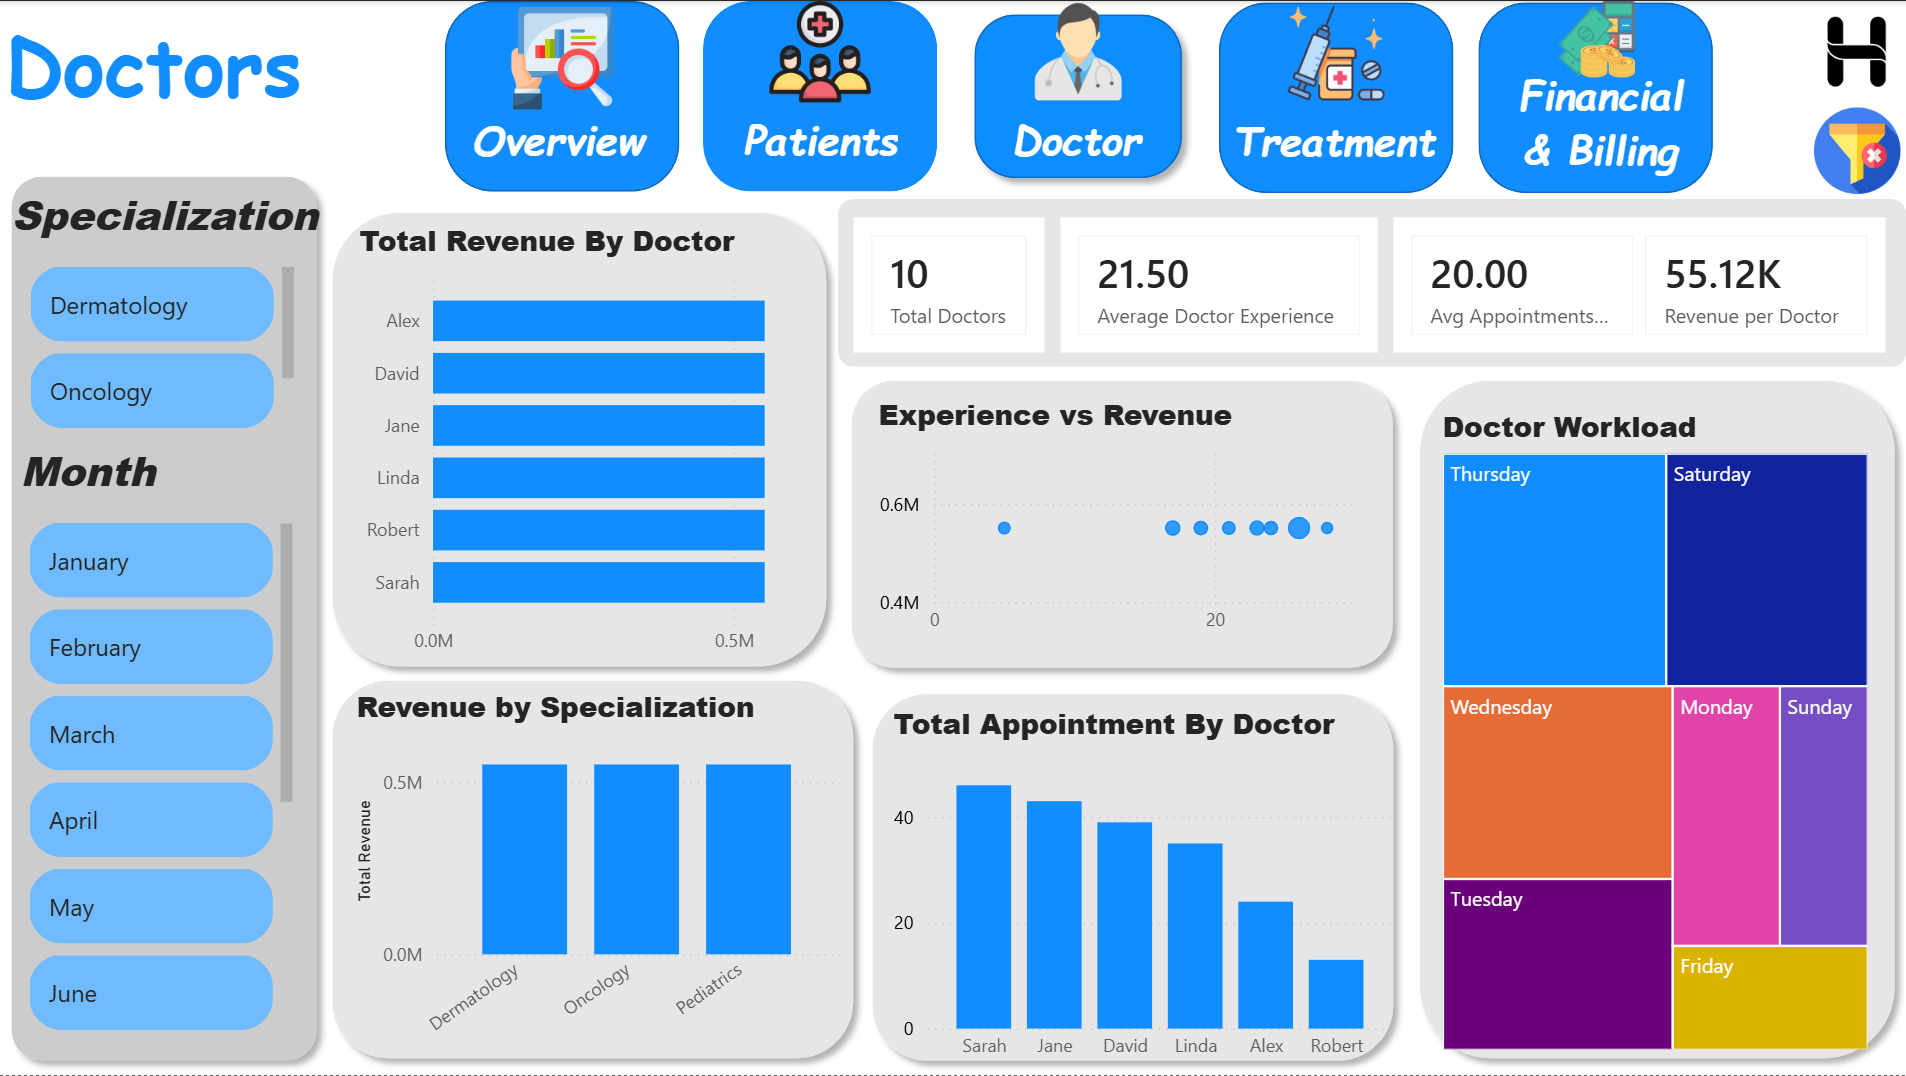

This screenshot's page, from the dashboard's own definition file:
{"tool":"powerbi","page":{"name":"Doctors","canvas":[1280,720],"ordinal":3},"visuals":[{"type":"textbox","box":[0,0,222.7,87.9],"z":0},{"type":"shape","box":[0,108.5,222.7,610.7],"z":1000},{"type":"shape","box":[299.7,0,157.1,127.8],"z":2000,"group":"g1"},{"type":"shape","box":[472.9,0,157.1,127.8],"z":2000,"group":"g2"},{"type":"shape","box":[645.7,0,157.1,127.8],"z":2000,"group":"g3"},{"type":"shape","box":[818.5,1,157.1,127.8],"z":2000,"group":"g4"},{"type":"shape","box":[992.9,1.1,157.1,127.8],"z":2000,"group":"g5"},{"type":"shape","box":[215,447,367.2,271.4],"z":2000},{"type":"image","box":[1039.1,-0.1,65.8,51.5],"z":3000,"group":"g5"},{"type":"image","box":[504.5,0,94.9,68],"z":3000,"group":"g2"},{"type":"image","box":[677.3,0,94.9,68],"z":3000,"group":"g3"},{"type":"image","box":[850.1,1,94.9,68],"z":3000,"group":"g4"},{"type":"image","box":[330.9,4,95.5,68.4],"z":3000,"group":"g1"},{"type":"columnChart","title":"Revenue by Specialization","fields":{"Category":["Doctor.Specialization"],"Y":["MeasuresTable.Total Revenue"]},"box":[235.2,459.8,334.2,252.2],"z":3000},{"type":"textbox","box":[997.4,38.4,155.6,85.5],"z":4000,"group":"g5"},{"type":"textbox","box":[495.2,68,113.7,49.2],"z":4000,"group":"g2"},{"type":"textbox","box":[313.1,68.4,133.8,49.3],"z":4000,"group":"g1"},{"type":"textbox","box":[674.9,68.4,106.6,49.3],"z":4000,"group":"g3"},{"type":"textbox","box":[822.8,69.1,155.4,50],"z":4000,"group":"g4"},{"type":"shape","box":[576.9,455.5,367.2,263.9],"z":4000},{"type":"shape","box":[215,133,349.1,322.5],"z":5000},{"type":"columnChart","title":"Total Appointment By Doctor","fields":{"Category":["Doctor.First_Name"],"Y":["MeasuresTable.Total Appointments"]},"box":[594.9,470.4,344.8,248],"z":6000},{"type":"barChart","title":"Total Revenue By Doctor","fields":{"Category":["Doctor.First_Name"],"Y":["MeasuresTable.Total Revenue"]},"box":[237.3,146.9,315,300.1],"z":7000},{"type":"shape","box":[563.5,133.2,716.5,112.5],"z":8000},{"type":"cardVisual","fields":{"Data":["MeasuresTable.Total Doctors"]},"box":[568.3,139.4,138.4,101.1],"z":9000},{"type":"cardVisual","fields":{"Data":["MeasuresTable.Average Doctor Experience"]},"box":[706.7,139.4,223.5,101.1],"z":10000},{"type":"cardVisual","fields":{"Data":["MeasuresTable.Avg Appointments per Doctor","MeasuresTable.Revenue per Doctor"]},"box":[930.2,139.4,340.6,101.1],"z":11000},{"type":"textbox","box":[9.8,290.8,131.1,54.6],"z":12000},{"type":"advancedSlicerVisual","fields":{"Values":["DateTable.Month Name"]},"box":[16.4,345.4,186.8,354.9],"z":13000},{"type":"group","id":"g1","title":"Group 1","box":[299.7,0,157.1,127.8],"z":14000},{"type":"group","id":"g2","title":"Group 1","box":[472.9,0,157.3,127.8],"z":15000},{"type":"group","id":"g3","title":"Group 1","box":[645.7,0,157.1,127.8],"z":16000},{"type":"shape","box":[563,245.9,381,210.7],"z":17000},{"type":"scatterChart","title":"Experience vs Revenue","fields":{"X":["Doctor.Year_Of_Experience"],"Y":["MeasuresTable.Total Revenue"],"Size":["MeasuresTable.Total Appointments"]},"box":[585.4,263.9,336.3,169.2],"z":18000},{"type":"shape","box":[944,245.9,336.3,472.6],"z":19000},{"type":"treemap","title":"Doctor Workload","fields":{"Values":["MeasuresTable.Total Appointments"],"Group":["Calendar.Day Name"]},"box":[963.2,271.4,294.8,436.4],"z":20000},{"type":"advancedSlicerVisual","fields":{"Values":["Doctor.Specialization"]},"box":[16.8,173,187,118.7],"z":21000},{"type":"textbox","box":[3.6,119.1,219.3,55.1],"z":22000},{"type":"group","id":"g4","title":"Group 1","box":[818.5,1,159.6,127.8],"z":23000},{"type":"image","box":[1213.2,0,66.8,67.9],"z":24000},{"type":"group","id":"g5","title":"Group 1","box":[992.9,-0.1,160.1,129],"z":25000},{"type":"image","box":[1213.2,71.2,66.8,58.1],"z":26000}]}

Visuals, with their boxes in screenshot pixels (x1, y1, x2, y2), scaled from the page's 1280x720 canvas onto the 1906x1076 screenshot:
textbox: {"x1": 0, "y1": 0, "x2": 332, "y2": 131}
shape: {"x1": 0, "y1": 162, "x2": 332, "y2": 1075}
shape: {"x1": 446, "y1": 0, "x2": 680, "y2": 191}
shape: {"x1": 704, "y1": 0, "x2": 938, "y2": 191}
shape: {"x1": 961, "y1": 0, "x2": 1195, "y2": 191}
shape: {"x1": 1219, "y1": 1, "x2": 1453, "y2": 192}
shape: {"x1": 1478, "y1": 2, "x2": 1712, "y2": 193}
shape: {"x1": 320, "y1": 668, "x2": 867, "y2": 1074}
image: {"x1": 1547, "y1": 0, "x2": 1645, "y2": 77}
image: {"x1": 751, "y1": 0, "x2": 893, "y2": 102}
image: {"x1": 1009, "y1": 0, "x2": 1150, "y2": 102}
image: {"x1": 1266, "y1": 1, "x2": 1407, "y2": 103}
image: {"x1": 493, "y1": 6, "x2": 635, "y2": 108}
"Revenue by Specialization" columnChart: {"x1": 350, "y1": 687, "x2": 848, "y2": 1064}
textbox: {"x1": 1485, "y1": 57, "x2": 1717, "y2": 185}
textbox: {"x1": 737, "y1": 102, "x2": 907, "y2": 175}
textbox: {"x1": 466, "y1": 102, "x2": 665, "y2": 176}
textbox: {"x1": 1005, "y1": 102, "x2": 1164, "y2": 176}
textbox: {"x1": 1225, "y1": 103, "x2": 1457, "y2": 178}
shape: {"x1": 859, "y1": 681, "x2": 1406, "y2": 1075}
shape: {"x1": 320, "y1": 199, "x2": 840, "y2": 681}
"Total Appointment By Doctor" columnChart: {"x1": 886, "y1": 703, "x2": 1399, "y2": 1074}
"Total Revenue By Doctor" barChart: {"x1": 353, "y1": 220, "x2": 822, "y2": 668}
shape: {"x1": 839, "y1": 199, "x2": 1905, "y2": 367}
cardVisual - MeasuresTable.Total Doctors: {"x1": 846, "y1": 208, "x2": 1052, "y2": 359}
cardVisual - MeasuresTable.Average Doctor Experience: {"x1": 1052, "y1": 208, "x2": 1385, "y2": 359}
cardVisual - MeasuresTable.Avg Appointments per Doctor x MeasuresTable.Revenue per Doctor: {"x1": 1385, "y1": 208, "x2": 1892, "y2": 359}
textbox: {"x1": 15, "y1": 435, "x2": 210, "y2": 516}
advancedSlicerVisual - DateTable.Month Name: {"x1": 24, "y1": 516, "x2": 303, "y2": 1047}
"Group 1" group: {"x1": 446, "y1": 0, "x2": 680, "y2": 191}
"Group 1" group: {"x1": 704, "y1": 0, "x2": 938, "y2": 191}
"Group 1" group: {"x1": 961, "y1": 0, "x2": 1195, "y2": 191}
shape: {"x1": 838, "y1": 367, "x2": 1406, "y2": 682}
"Experience vs Revenue" scatterChart: {"x1": 872, "y1": 394, "x2": 1372, "y2": 647}
shape: {"x1": 1406, "y1": 367, "x2": 1905, "y2": 1074}
"Doctor Workload" treemap: {"x1": 1434, "y1": 406, "x2": 1873, "y2": 1058}
advancedSlicerVisual - Doctor.Specialization: {"x1": 25, "y1": 259, "x2": 303, "y2": 436}
textbox: {"x1": 5, "y1": 178, "x2": 332, "y2": 260}
"Group 1" group: {"x1": 1219, "y1": 1, "x2": 1456, "y2": 192}
image: {"x1": 1807, "y1": 0, "x2": 1905, "y2": 101}
"Group 1" group: {"x1": 1478, "y1": 0, "x2": 1717, "y2": 193}
image: {"x1": 1807, "y1": 106, "x2": 1905, "y2": 193}
